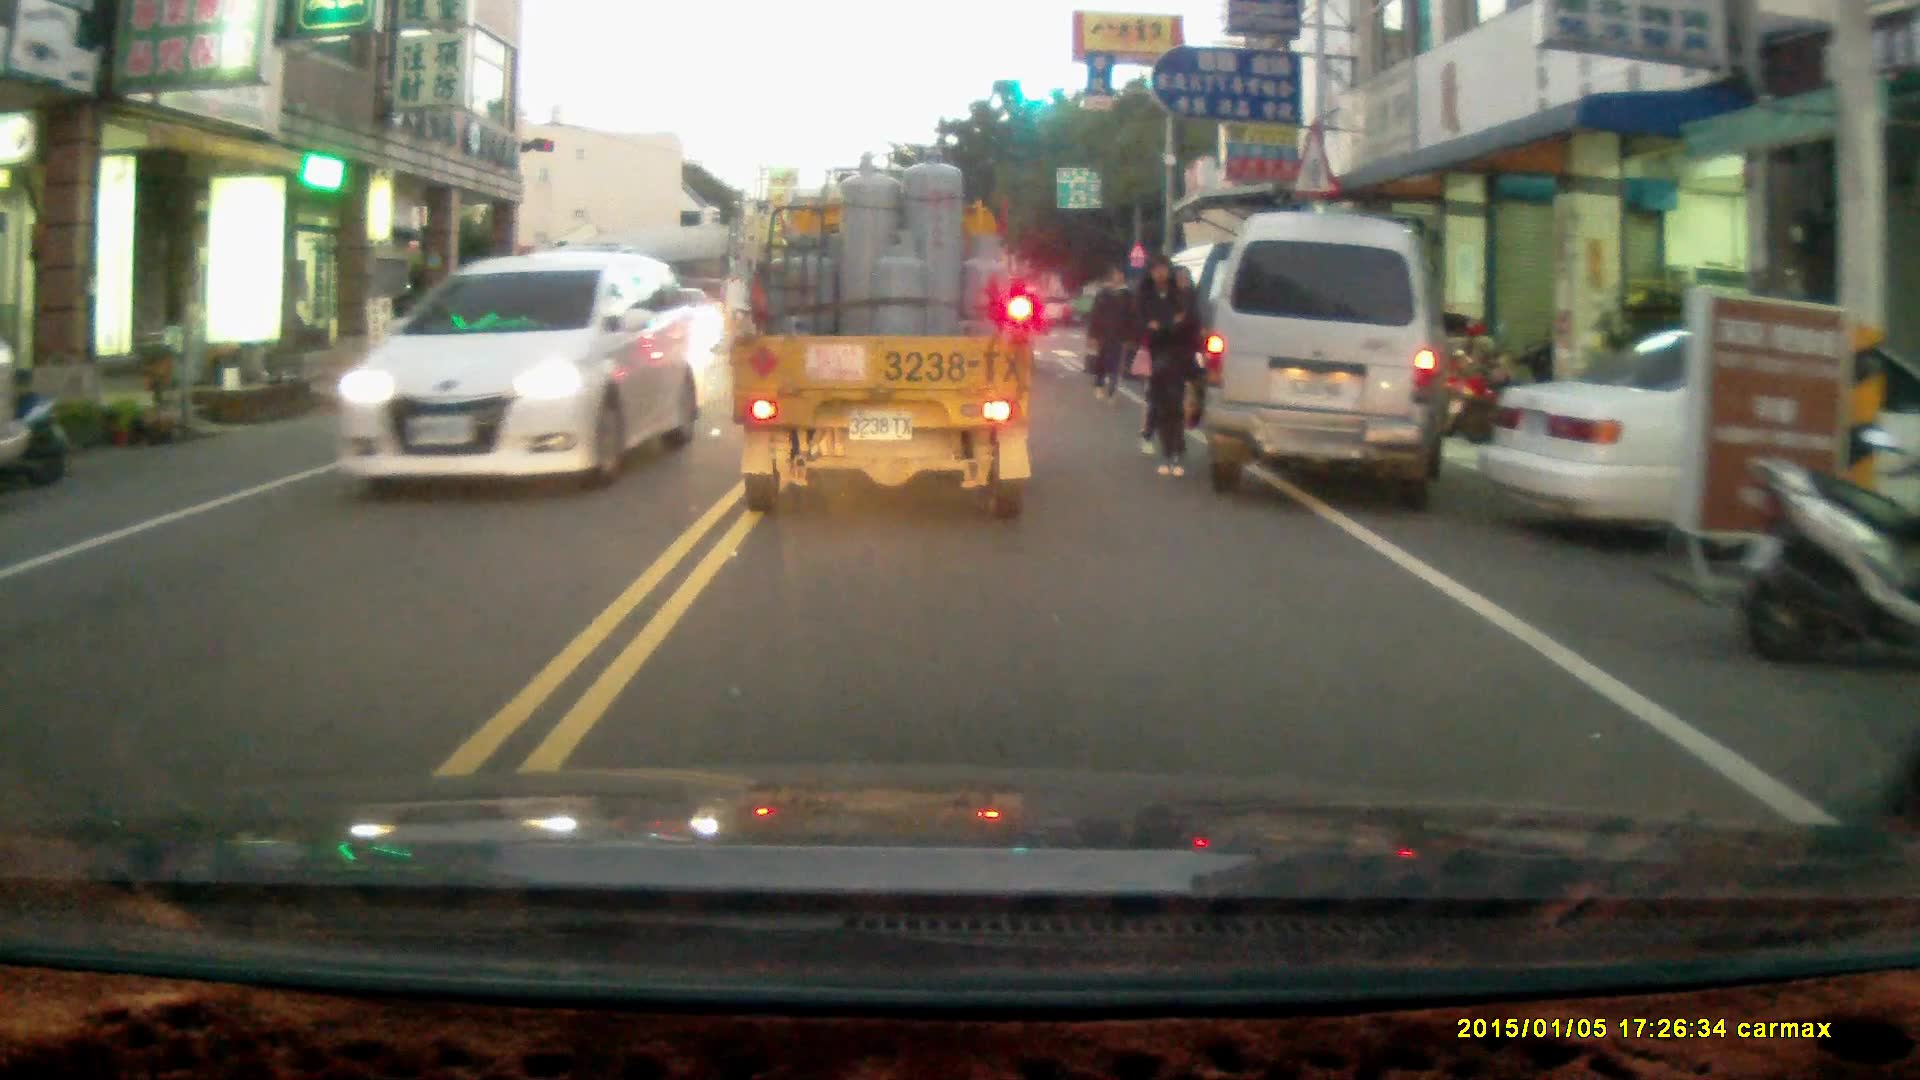pedestrian: (1129, 254, 1196, 482), (1086, 261, 1137, 407)
vehicle: (723, 143, 1036, 520), (1472, 323, 1920, 570), (334, 249, 702, 487), (1197, 209, 1454, 502)
